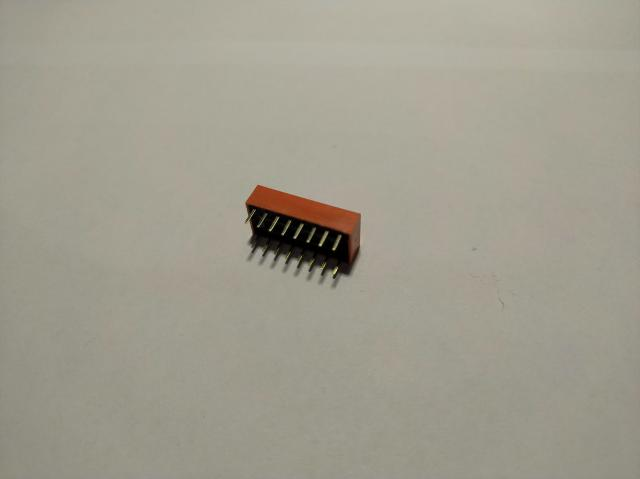dip_switch: (244, 185, 360, 277)
